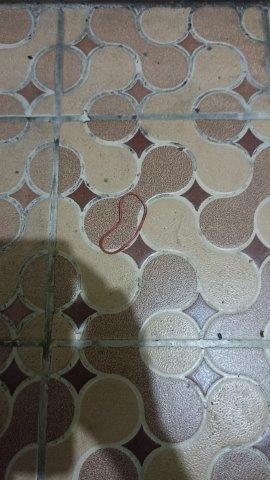karet: (99, 192, 149, 254)
